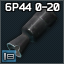AK-105 5.45x39 muzzle brake & compensator 6P44 0-20: (0, 0, 64, 64)
